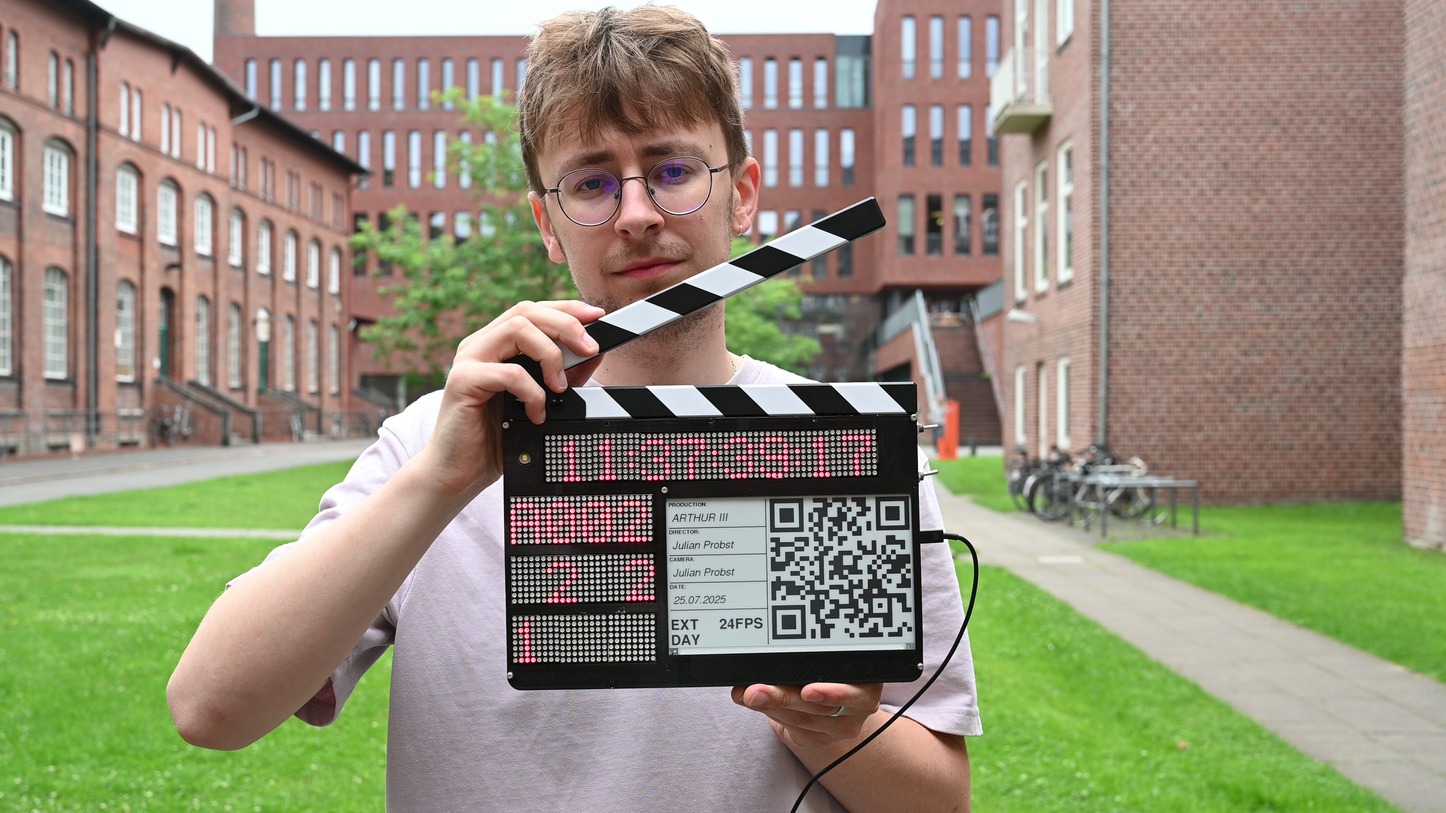ARC-SLATE: (504, 378, 927, 690)
